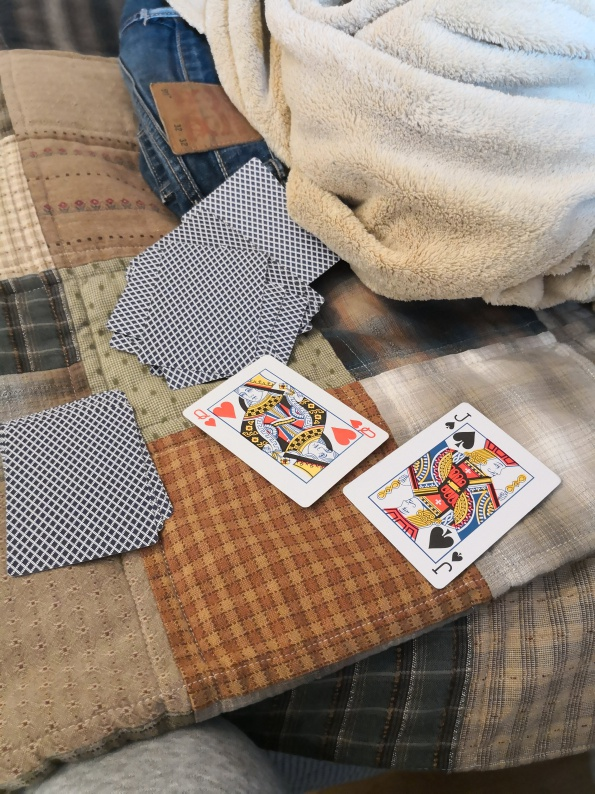jack: (341, 401, 564, 593)
queen: (180, 352, 391, 511)
